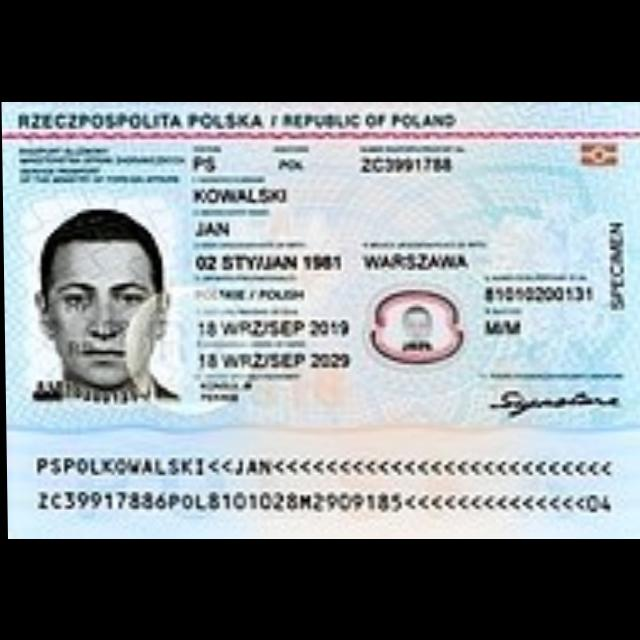passport: (1, 101, 640, 538)
